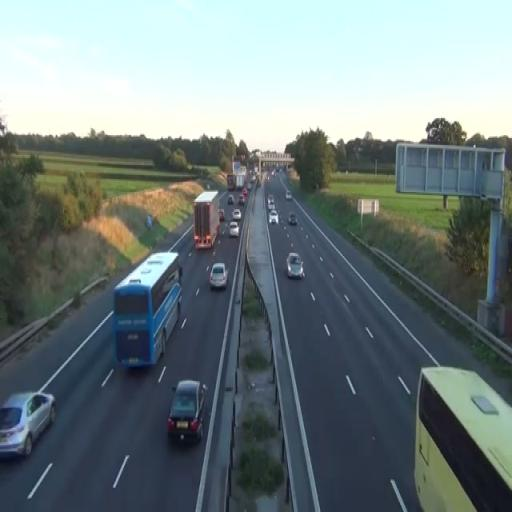Bus: (412, 365, 512, 510), (113, 250, 183, 369)
Car: (412, 365, 512, 510), (0, 389, 57, 459), (166, 379, 206, 446), (209, 262, 229, 290), (286, 252, 304, 280), (229, 221, 239, 238), (288, 212, 298, 226), (269, 210, 278, 224), (232, 209, 242, 221)
Truck: (193, 190, 220, 251)
